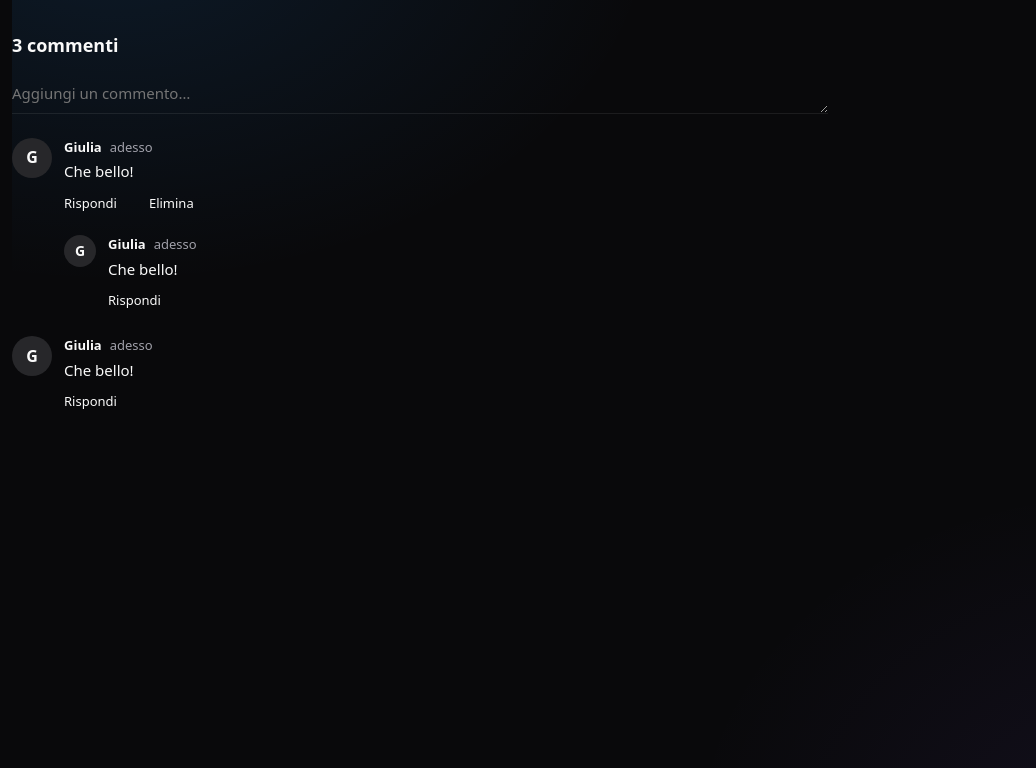
comments › deletes a comment after asking
Expected: the heading "3 commenti" is shown, 12,33 -> 118,57
Click the button "Elimina" at (171, 203), box 137,187 -> 206,219
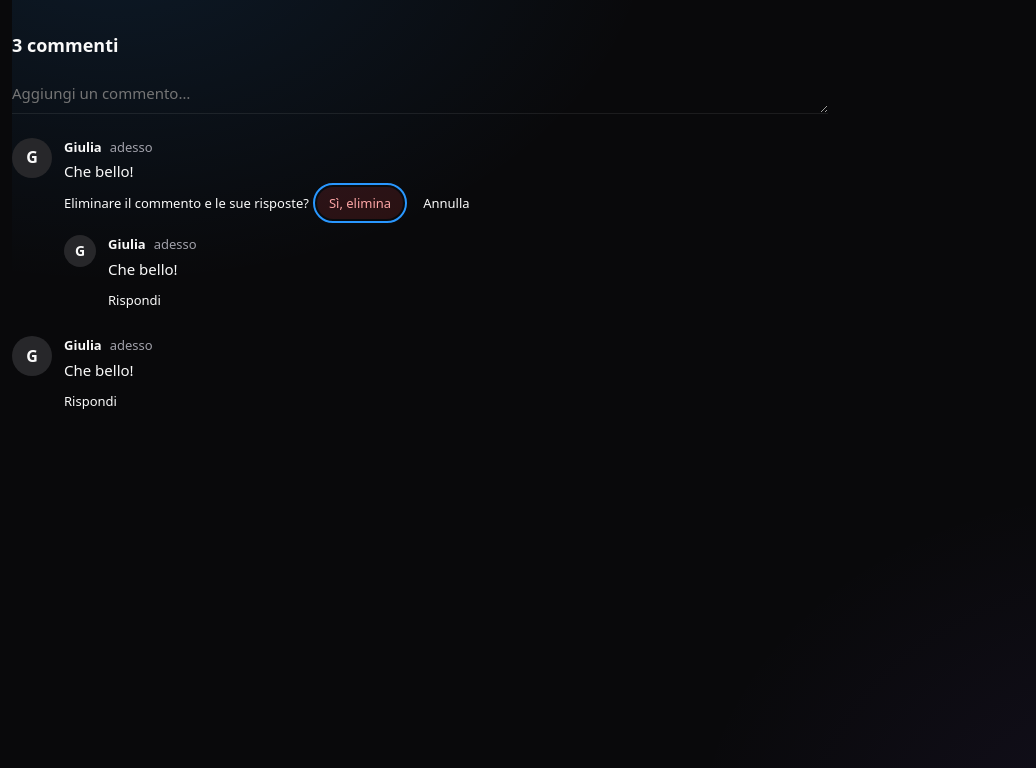
Result: the text "Eliminare il commento e le sue risposte?" is shown at 64,194 -> 309,212
Click the button "Sì, elimina" at (360, 203), box 317,187 -> 403,219
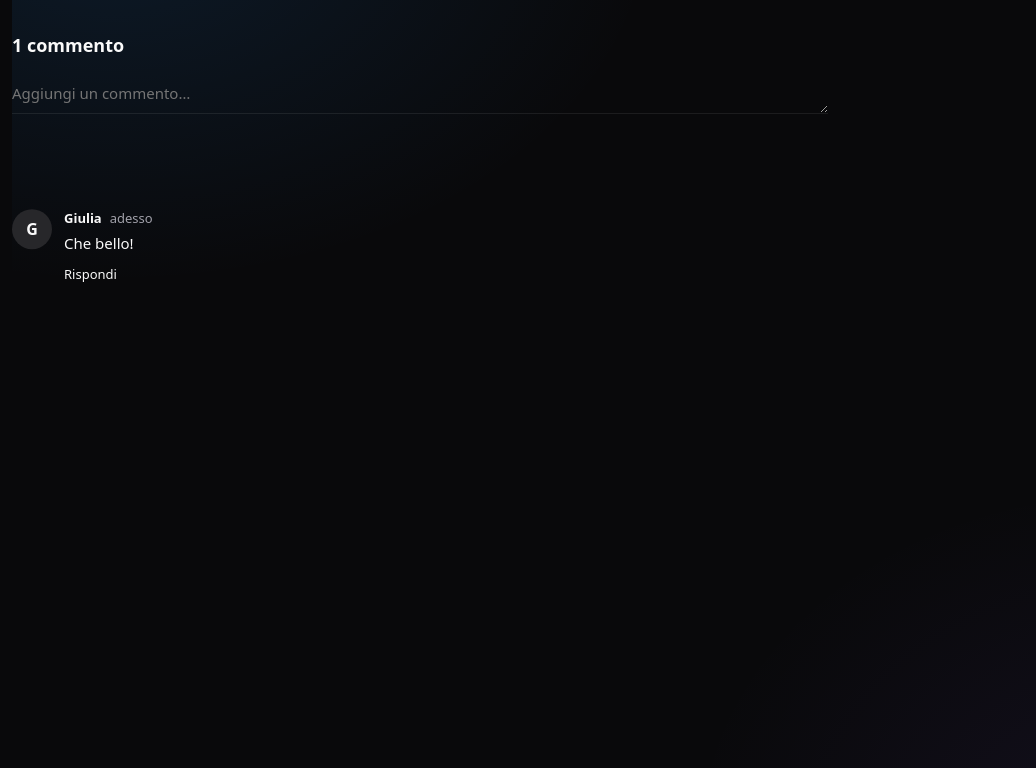
Result: the heading "1 commento" is shown at 12,33 -> 124,57
